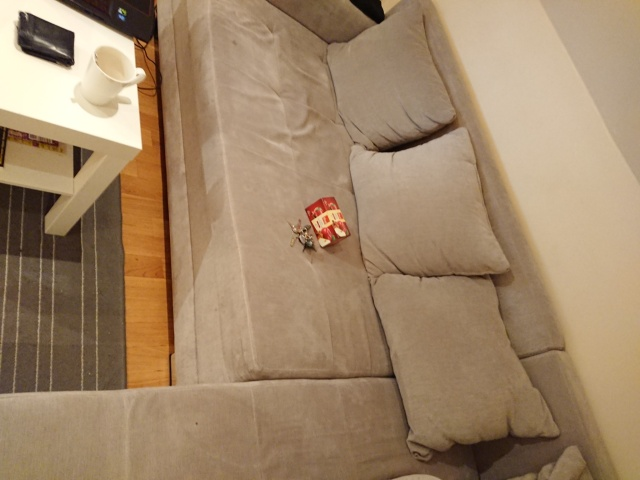Franck Apple Cinnamon Tea 60g: (302, 193, 353, 249)
